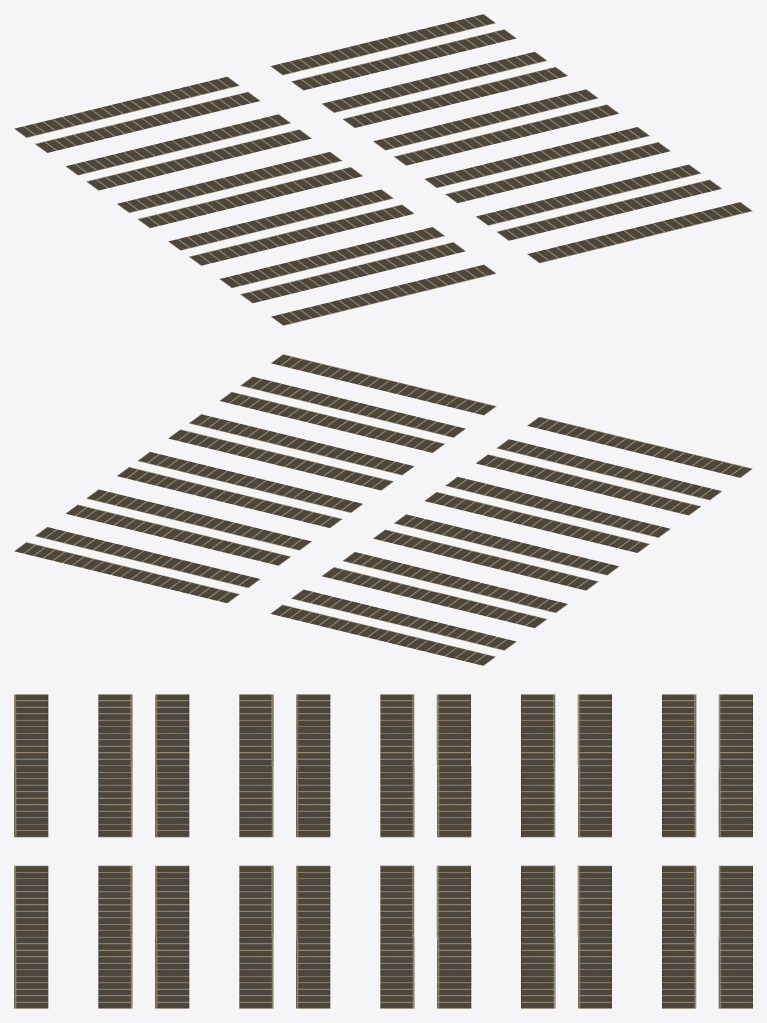
Rendered from SM_Parkiran_Tengah.fbx.
The picture shows the model from 3 angles, top to bottom: view 1: azimuth 30°, elevation 25°; view 2: azimuth 150°, elevation 25°; view 3: azimuth 270°, elevation 25°; orthographic projection. The views are drawn at different scales.
Parts seen in each view (by area): view 1: Plane.001; view 2: Plane.001; view 3: Plane.001.
Part boxes in pixels (bbox=[...]): Plane.001: bbox=[14, 14, 752, 325]; Plane.001: bbox=[14, 354, 752, 665]; Plane.001: bbox=[14, 694, 752, 1008].
Size of the model in its own units: 5251 by 0.00313 by 5214.
1 material, 1 textured.
